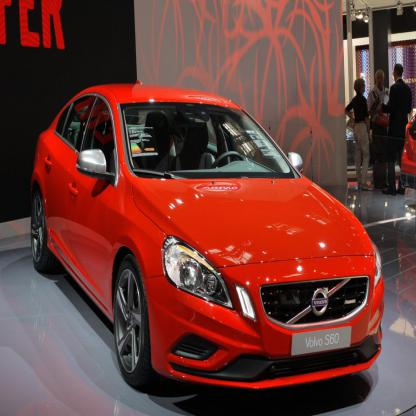Car: (30, 79, 385, 394)
